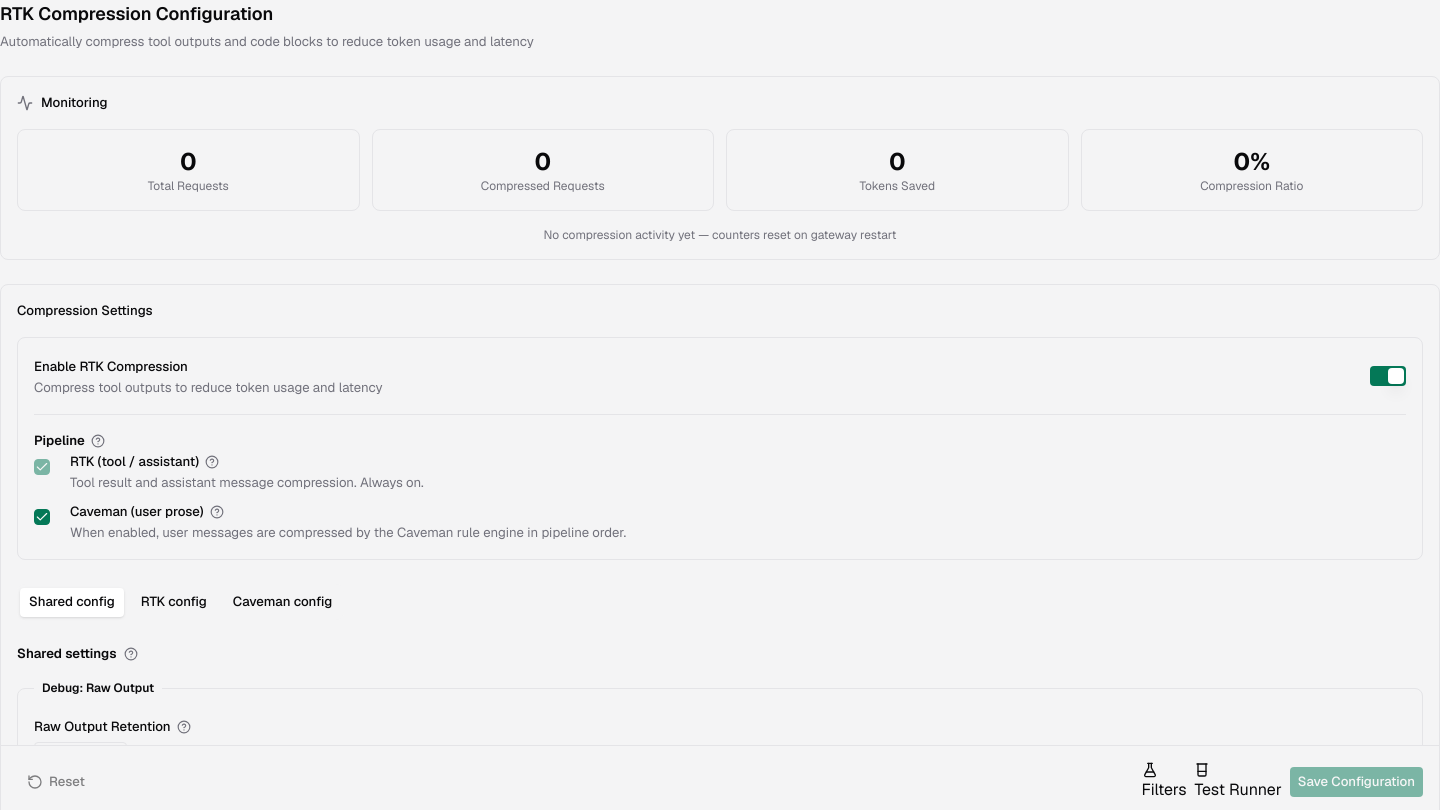
Scenario: RtkFragment — Caveman skip_rules / preserve_patterns › renders skip_rules as a multi-select on the Caveman tab
Press the mouse on the tab with test id "rtk-tab-caveman": (282, 602) [224,588,341,616]
(page scrolled)
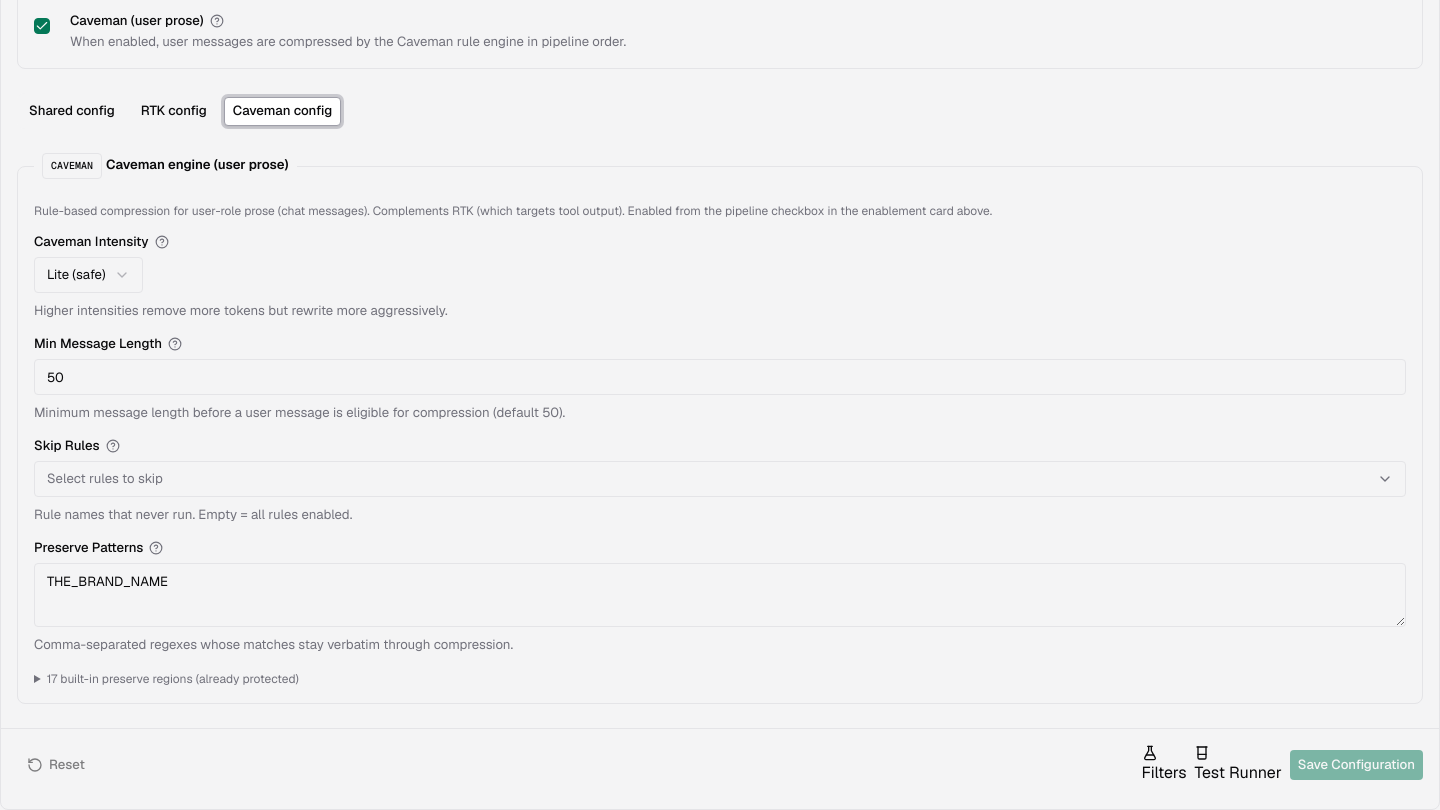
Expected: the button with test id "caveman-field-skip-rules" is shown, [34,461,1406,497]
